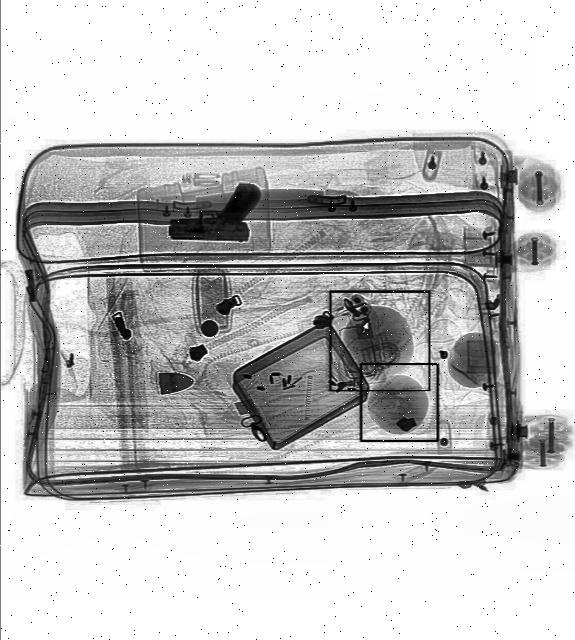Gun: (170, 180, 262, 242)
